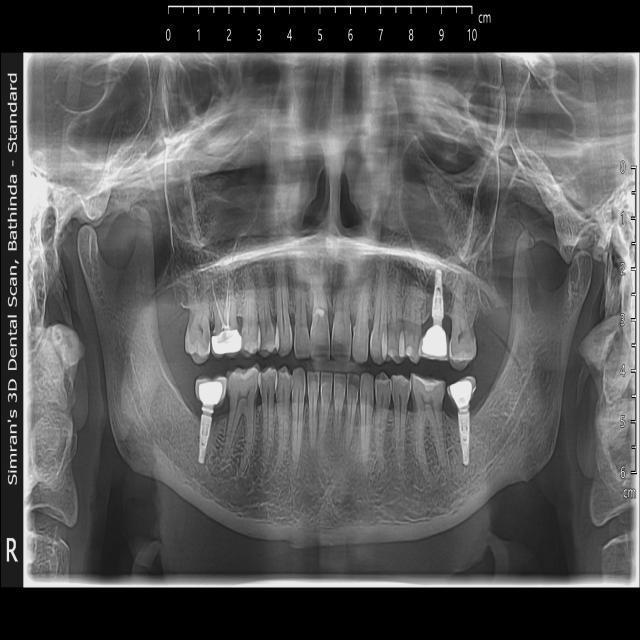implant: (186, 376, 227, 466), (446, 370, 480, 462), (422, 266, 450, 361)
kanal-tedavisi: (212, 274, 236, 328)
kaplama: (210, 326, 243, 354)
